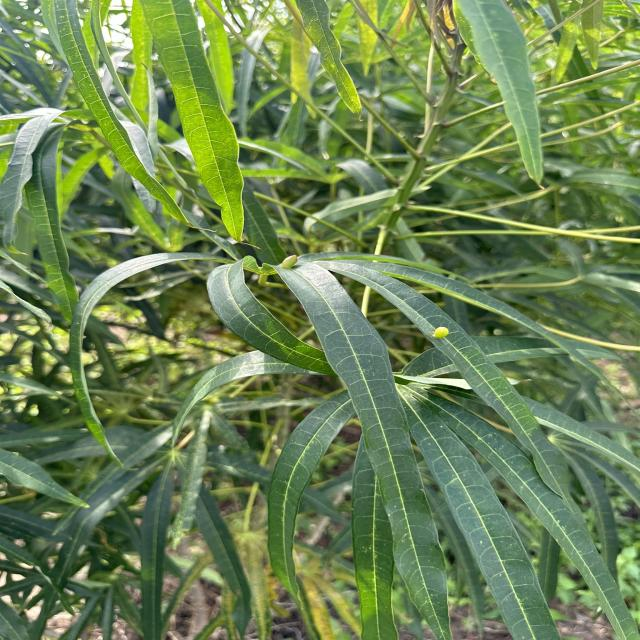Mosca: (267, 247, 305, 278), (425, 322, 458, 350)
